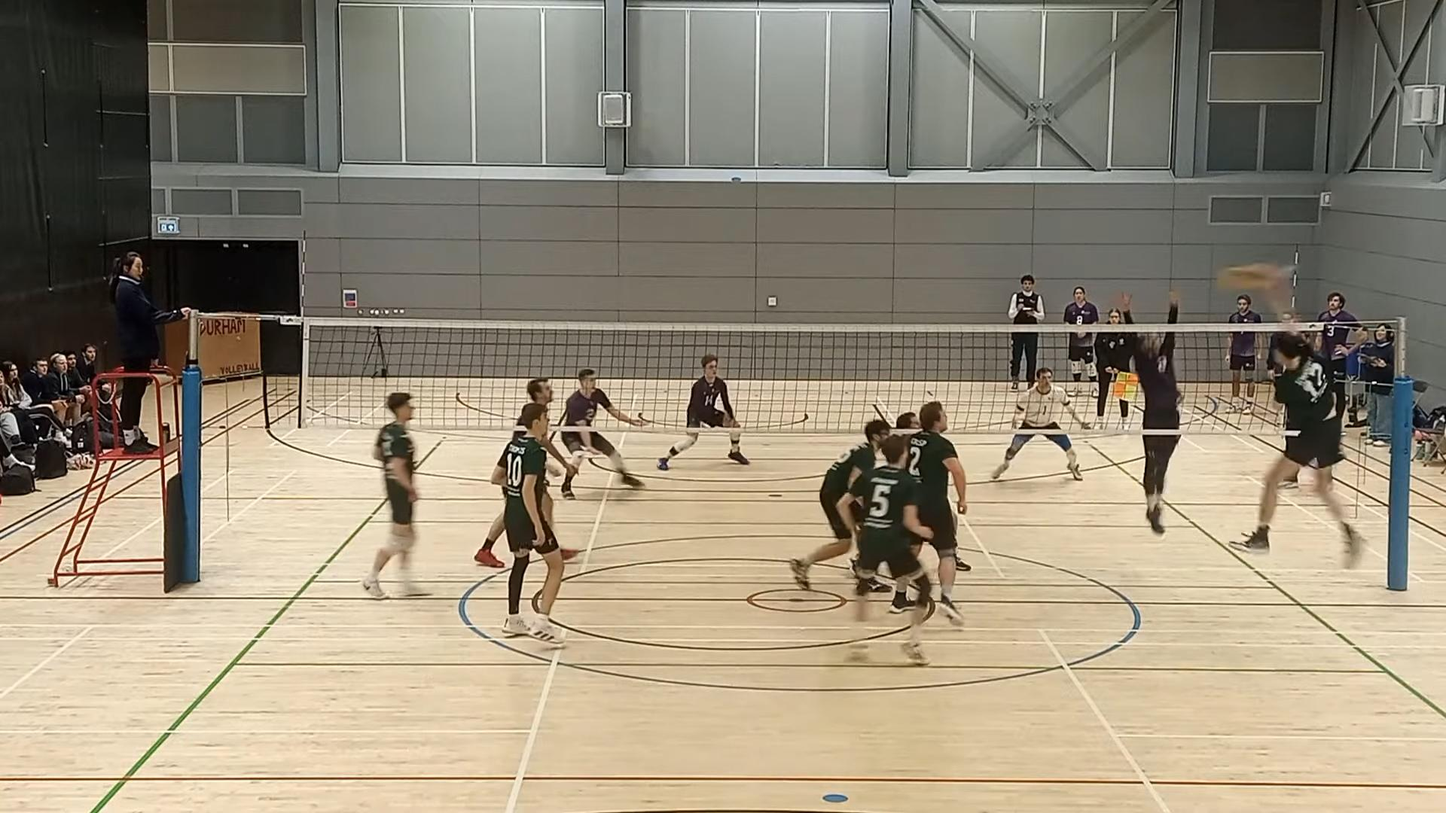Attack: (1226, 254, 1376, 574)
Block: (1116, 284, 1195, 547)
Player: (835, 435, 932, 665), (491, 403, 563, 643), (789, 419, 890, 589), (907, 402, 966, 625), (362, 392, 425, 597), (991, 367, 1089, 480), (657, 355, 749, 470), (562, 368, 648, 488), (474, 512, 505, 568), (895, 412, 921, 431), (895, 412, 920, 431)
